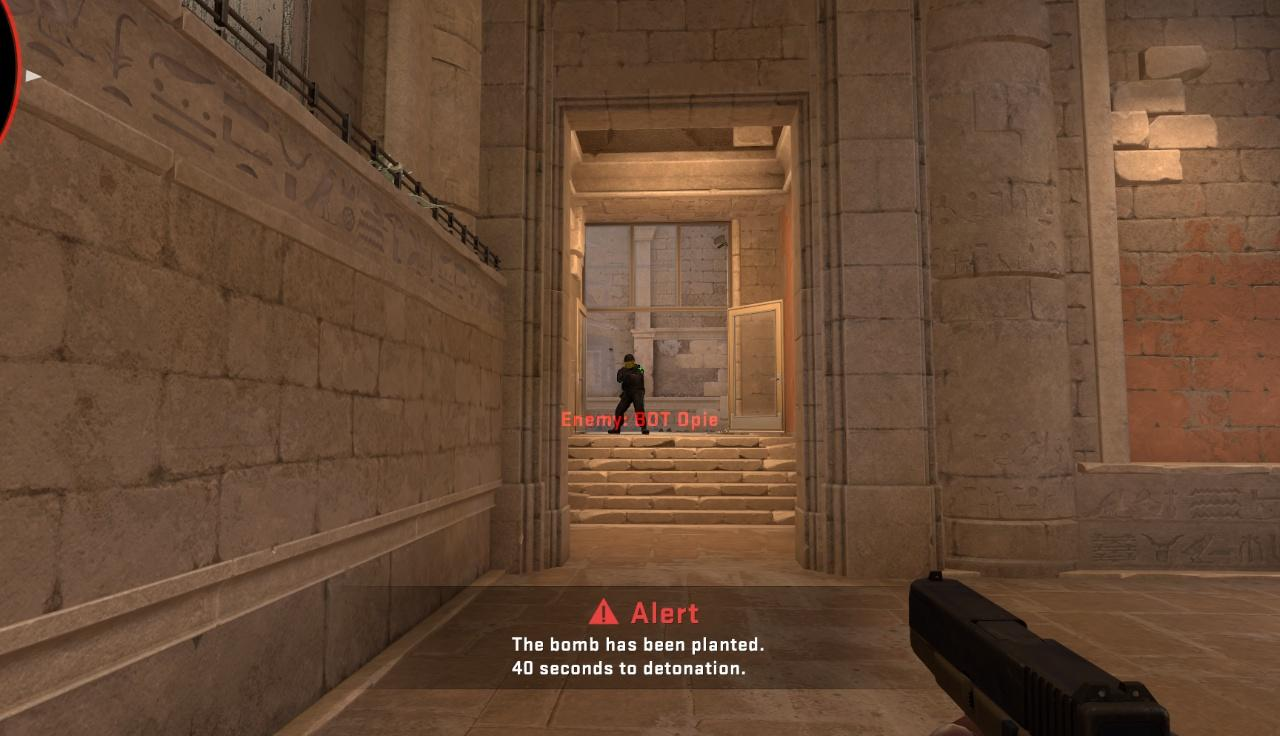ct: (617, 354, 646, 435)
cthead: (624, 354, 635, 369)
pistol: (905, 568, 1174, 736)
